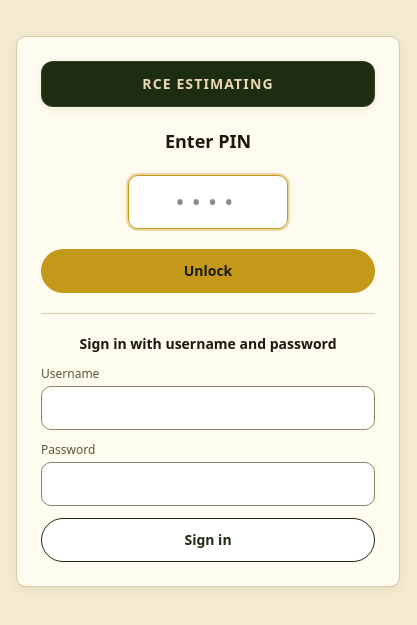
PinLoginPage secure fill and paste › shows the server's message when the PIN is refused
In the password field with placeholder "••••": coordinates (208, 202) [128,174,288,228], type "12"
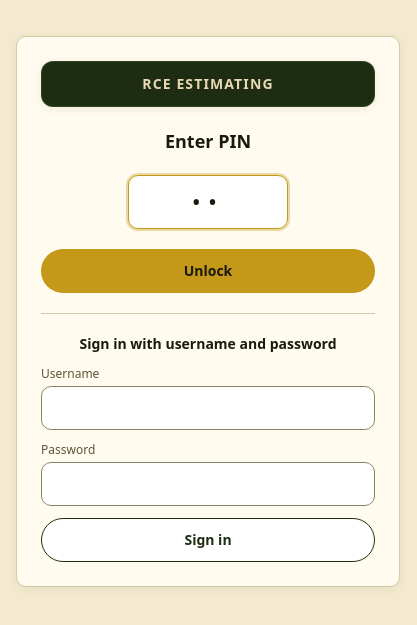
Click the button "Unlock": coordinates (208, 270) [41,248,375,292]
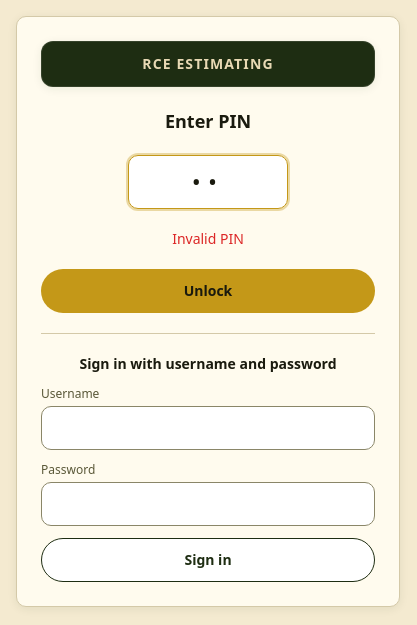
Expected: the text "Invalid PIN" is shown, [172,228,244,248]
